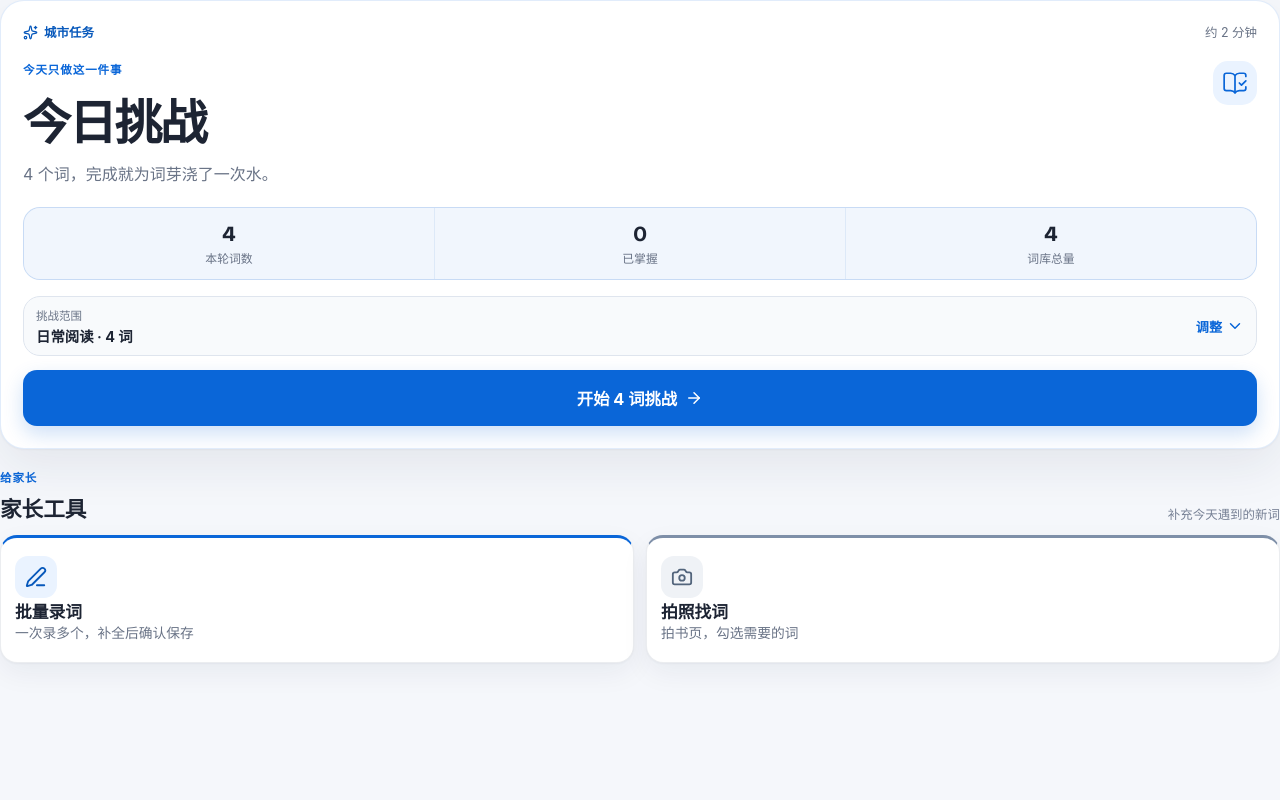
HomePage › disables frequent mistakes when there are none yet
The width and height of the screenshot is (1280, 800).
Expected: the button "开始 4 词挑战" is shown, [23, 370, 1257, 426]
What coordinates should you click on to do the following:
click the button with aria-label "调整挑战范围"
I would click on:
 (59, 316)
Its box is [24, 297, 1256, 355].
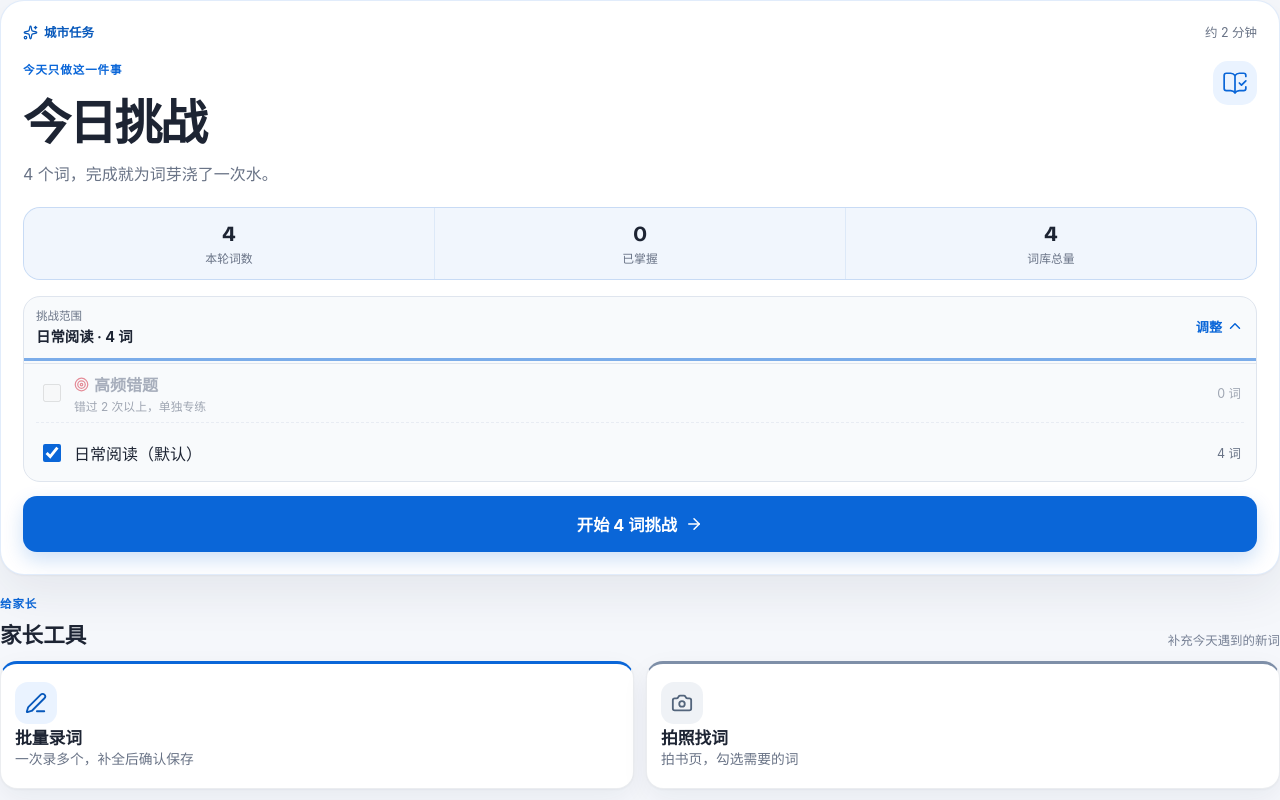
Now the checkbox labelled "高频错题 错过 2 次以上，单独专练 0 词" is disabled, box [43, 384, 61, 402]
